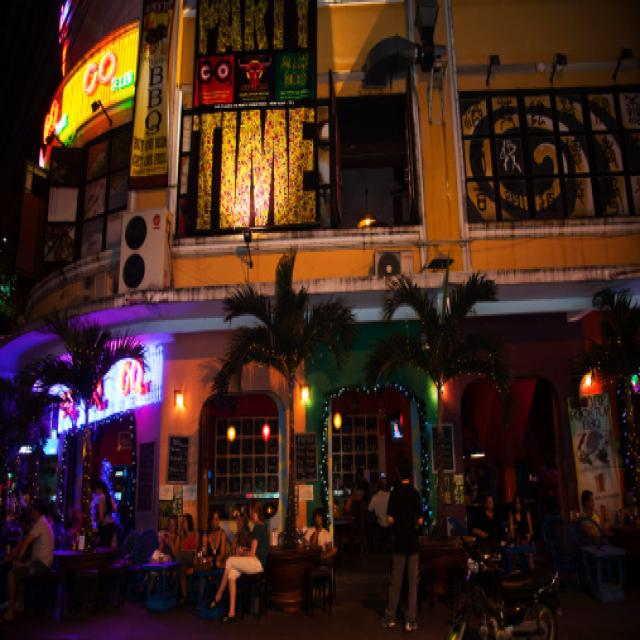Motorbike: (440, 529, 574, 640)
People: (391, 437, 438, 640), (229, 478, 278, 626), (293, 482, 346, 605), (10, 488, 58, 600), (90, 463, 138, 568), (569, 462, 613, 569), (146, 515, 193, 600), (193, 502, 228, 600), (362, 462, 395, 545), (505, 481, 539, 554), (483, 477, 506, 566)
